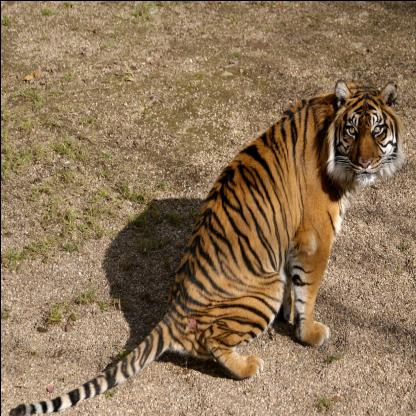tiger: (328, 73, 404, 197)
